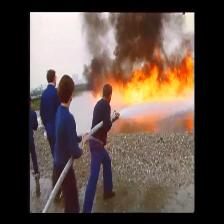fire: (113, 51, 194, 102)
